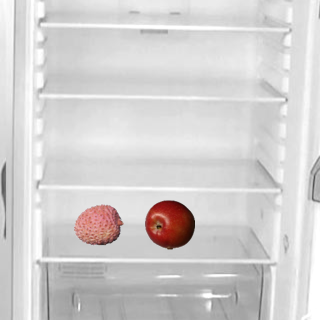Apple Braeburn: (144, 199, 194, 249)
Lychee: (73, 199, 123, 249)
